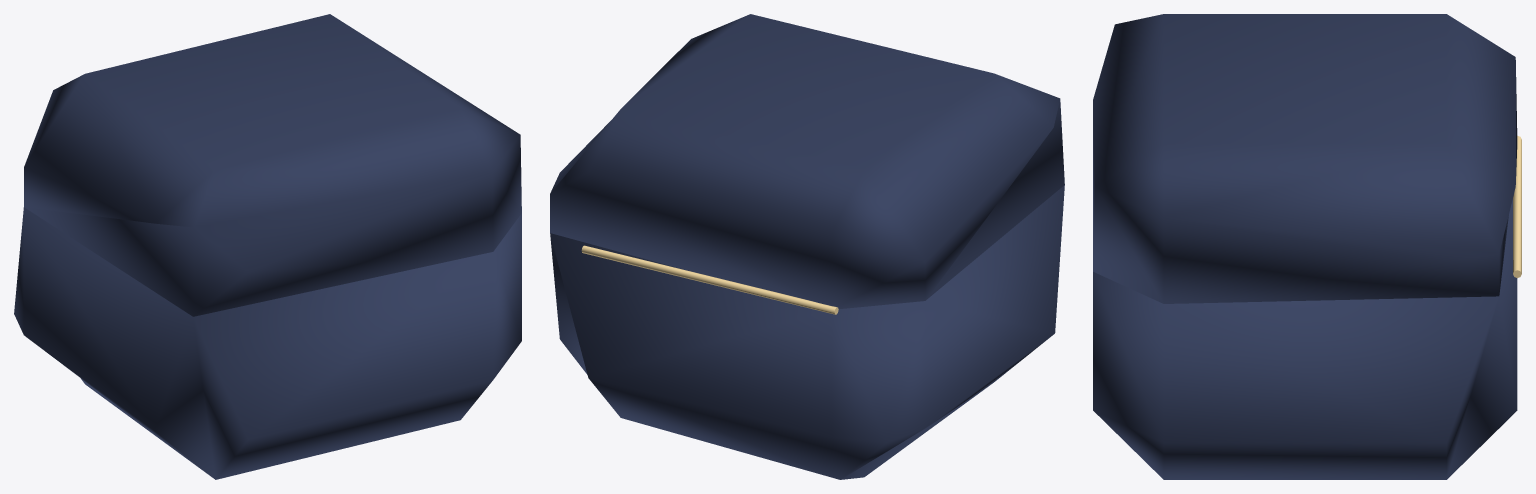
Rendered from RingBoxClosed_LOD2.obj.
The picture shows the model from 3 angles, left to right: view 1: azimuth 30°, elevation 25°; view 2: azimuth 150°, elevation 25°; view 3: azimuth 270°, elevation 25°; orthographic projection. The views are drawn at different scales.
Parts seen in each view (by area): view 1: VelvetNavy; view 2: VelvetNavy, Gold18k; view 3: VelvetNavy, Gold18k.
Part boxes in pixels (box(x1,y1,x2,y2)): VelvetNavy: box(14, 14, 521, 479); VelvetNavy: box(550, 14, 1064, 479); Gold18k: box(581, 245, 838, 314); VelvetNavy: box(1093, 14, 1517, 479); Gold18k: box(1513, 135, 1521, 277).
Bounding box in the file's own units: 0.052 × 0.042 × 0.0485.
